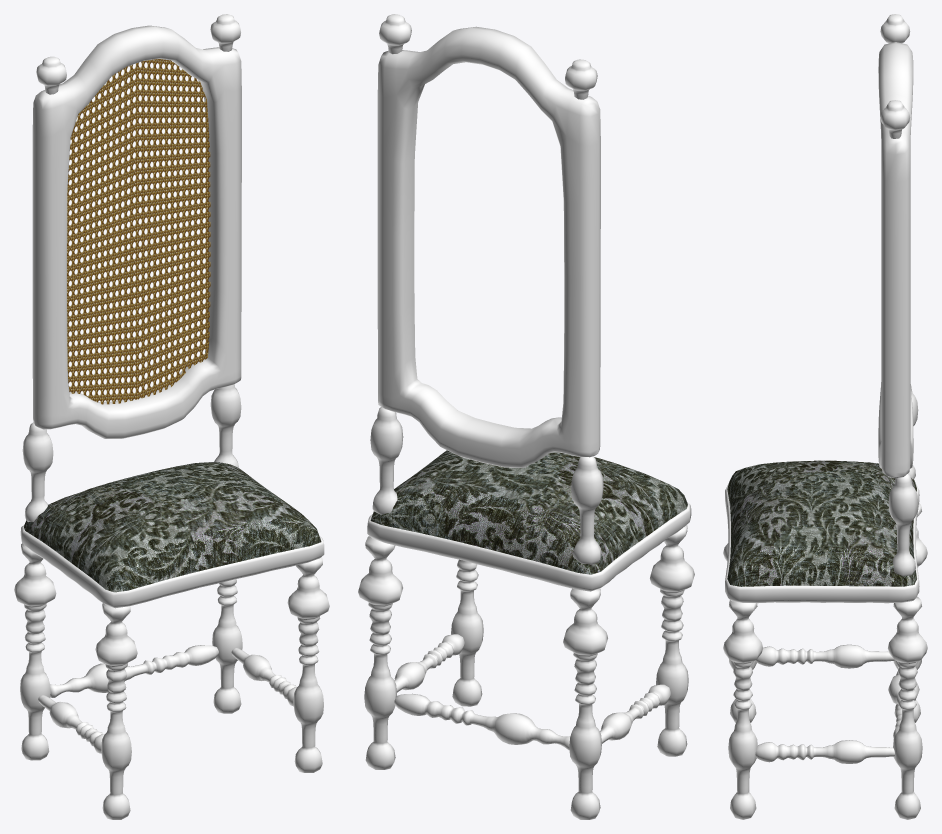
File: chair.glb
The picture shows the model from 3 angles, left to right: view 1: azimuth 30°, elevation 25°; view 2: azimuth 150°, elevation 25°; view 3: azimuth 270°, elevation 25°; orthographic projection. The views are drawn at different scales.
Visible parts, largest first — view 1: Plane.002, Plane.004, Plane, Cube.015, Cube.001, Plane.001, Cube.004, Cube.002, Cube.003, Cube.005; view 2: Plane.004, Plane, Cube.001, Cube.015, Plane.001, Cube.004, Cube.003, Cube.002, Cube.005; view 3: Plane, Plane.004, Cube.001, Cube.015, Cube.002, Plane.001, Cube.004, Cube.005, Cube.003.
Boxes of the visible parts, x1,y1,x2,y2 form: Plane.002: (67, 59, 210, 404); Plane.004: (32, 25, 241, 438); Plane: (23, 462, 321, 592); Cube.015: (95, 557, 329, 819); Cube.001: (14, 543, 242, 760); Plane.001: (20, 525, 324, 608); Cube.004: (22, 384, 241, 521); Cube.002: (38, 648, 296, 753); Cube.003: (50, 645, 218, 697); Cube.005: (36, 14, 240, 94); Plane.004: (377, 26, 600, 467); Plane: (370, 450, 687, 574); Cube.001: (358, 536, 607, 819); Cube.015: (451, 525, 694, 756); Plane.001: (367, 503, 691, 591); Cube.004: (370, 407, 603, 565); Cube.003: (394, 693, 570, 750); Cube.002: (394, 634, 670, 743); Cube.005: (379, 14, 597, 99); Plane: (727, 460, 916, 586); Plane.004: (878, 42, 913, 478); Cube.001: (888, 503, 927, 819); Cube.015: (723, 543, 762, 819); Cube.002: (755, 644, 894, 763); Plane.001: (725, 483, 919, 603); Cube.004: (888, 385, 918, 576); Cube.005: (880, 14, 910, 138); Cube.003: (888, 662, 919, 738).
Bounding box in the file's own units: 2.01 × 5.91 × 1.52.
4 materials, 2 textured.
